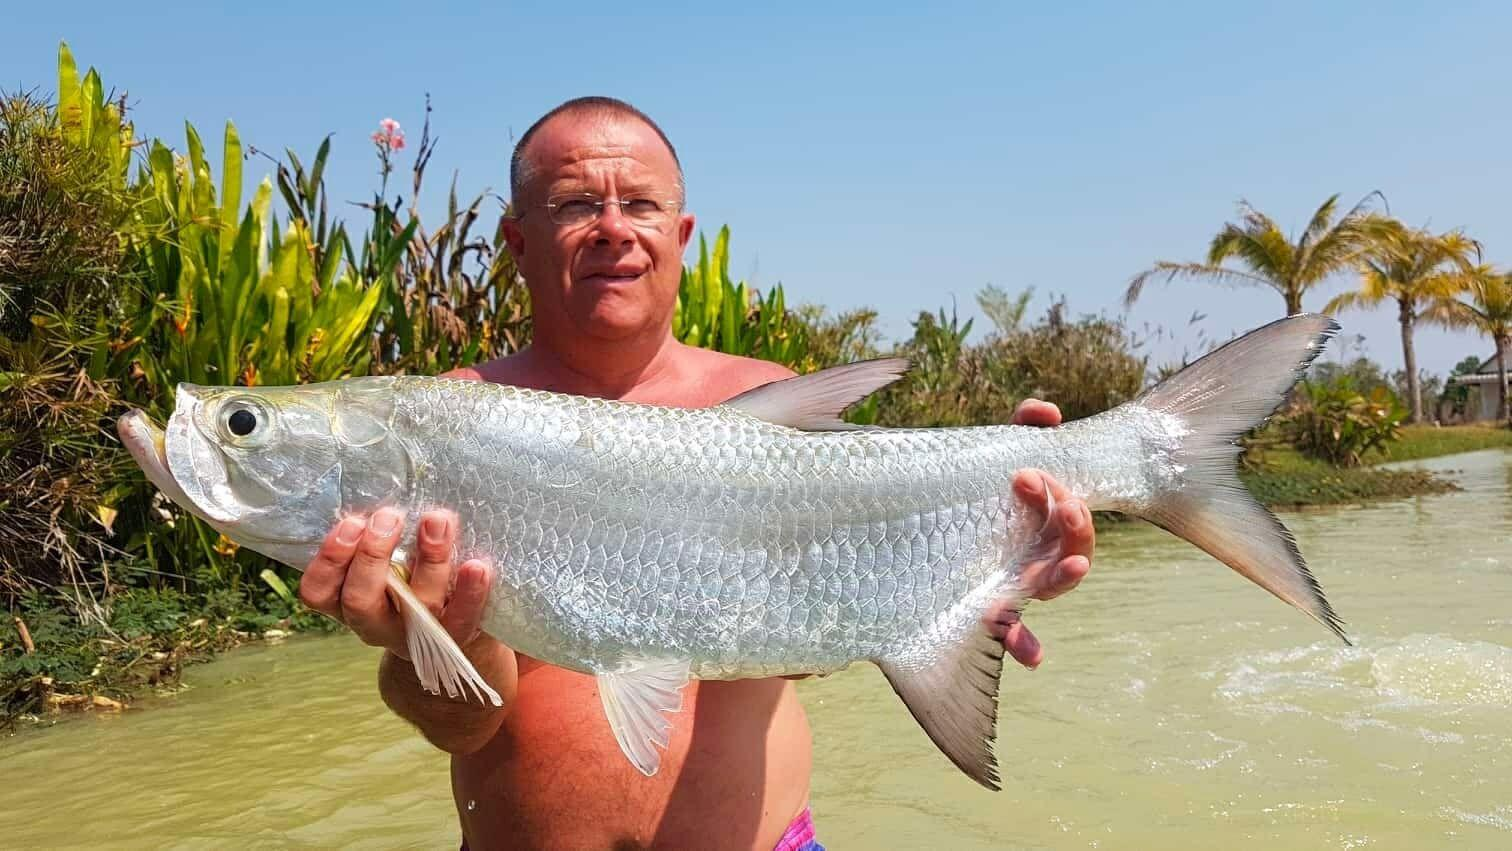Indo-Pacific Tarpon: (118, 314, 1362, 794)
